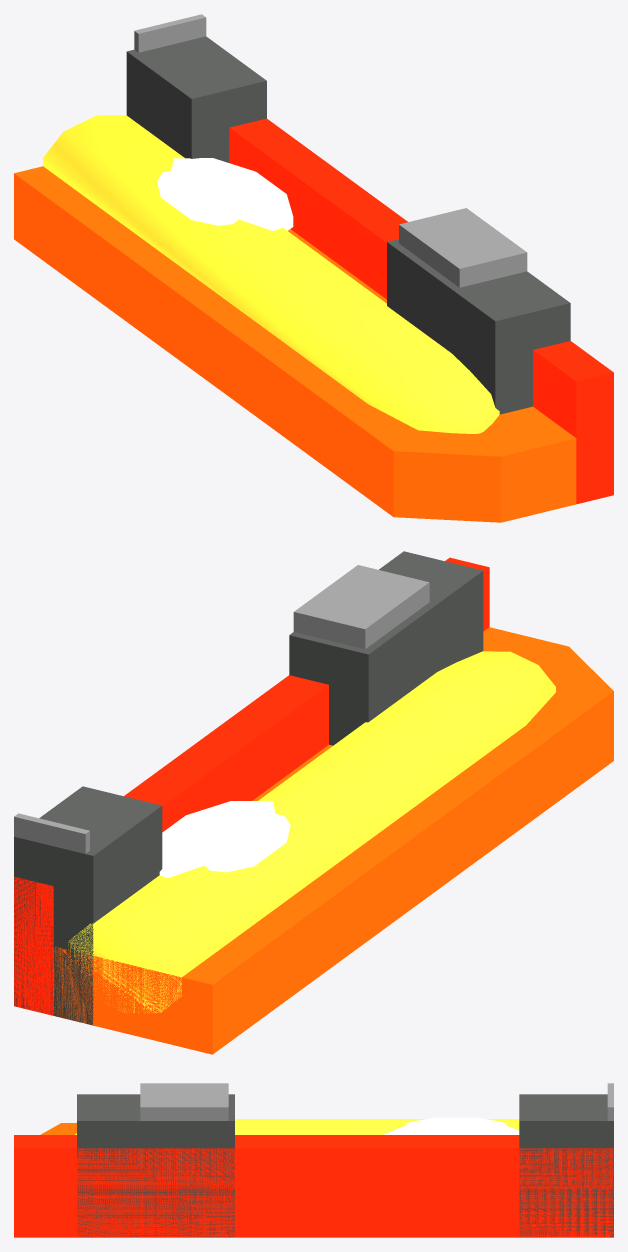
File: newsha-39-f3.glb
3 views of the same model, one above another, from view 1: azimuth 30°, elevation 25°; view 2: azimuth 150°, elevation 25°; view 3: azimuth 270°, elevation 25° (orthographic). The views are drawn at different scales.
Parts seen in each view (by area): view 1: newsha-39-f3; view 2: newsha-39-f3; view 3: newsha-39-f3.
Part boxes in pixels (x1,y1,x2,y2): newsha-39-f3: (14,14,613,522); newsha-39-f3: (14,551,613,1054); newsha-39-f3: (14,1083,613,1237).
Size of the model in its own units: 0.4167 by 0.38 by 1.58.
